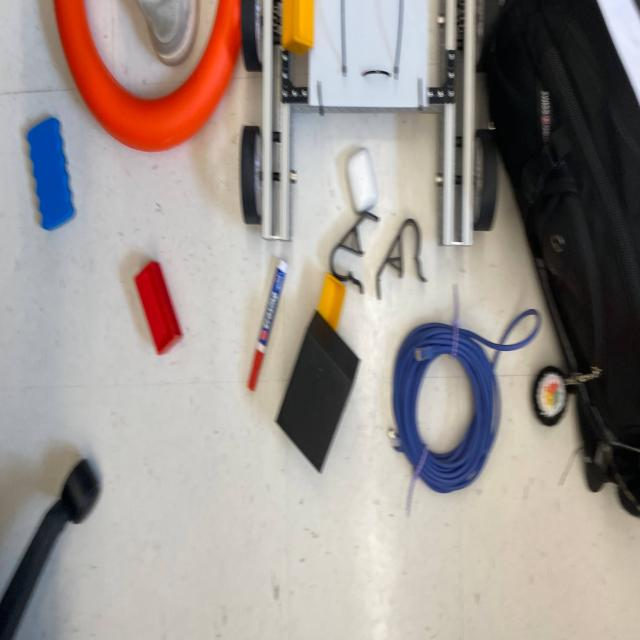red-specimen: (134, 261, 182, 354)
yellow-specimen: (282, 0, 314, 54), (317, 273, 346, 330)
